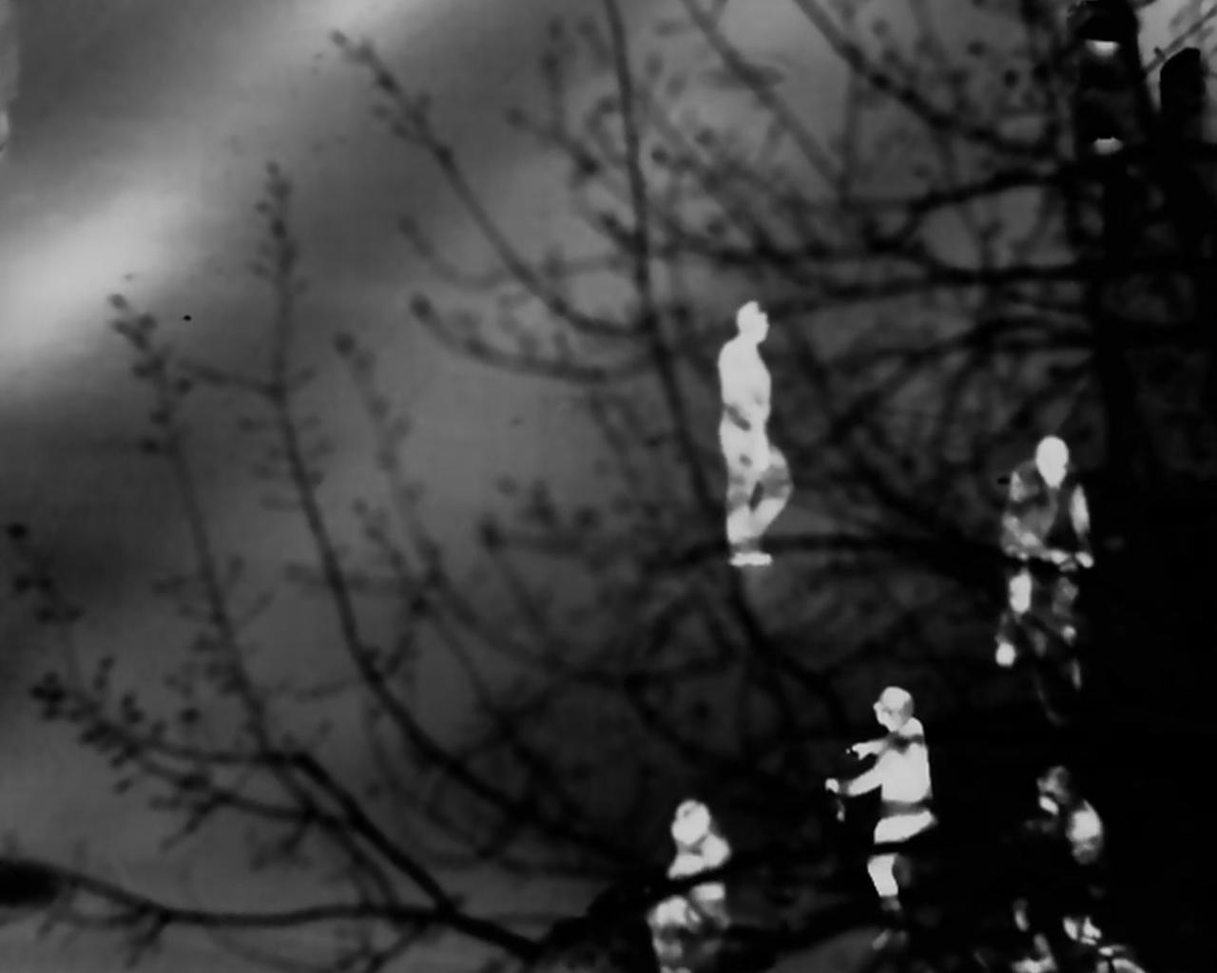person: (991, 432, 1091, 683), (713, 296, 802, 571), (849, 676, 935, 875), (642, 806, 729, 955), (1028, 757, 1098, 932)
